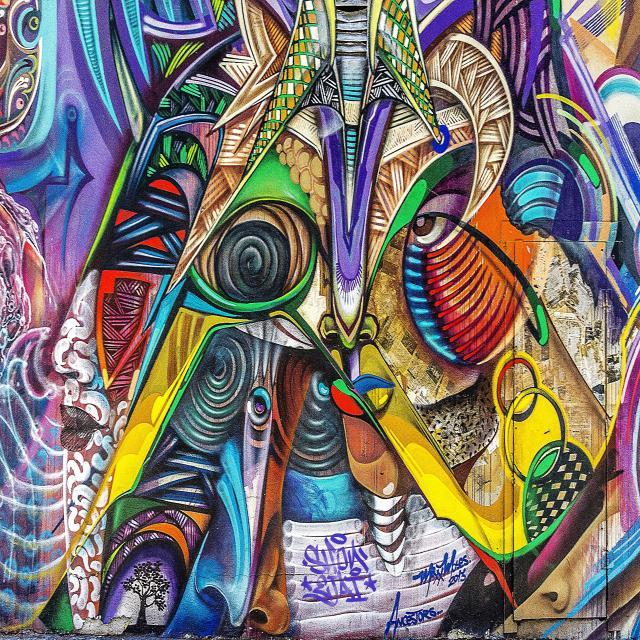-: (0, 0, 640, 640), (298, 525, 379, 607), (377, 598, 441, 634), (407, 550, 469, 586)
